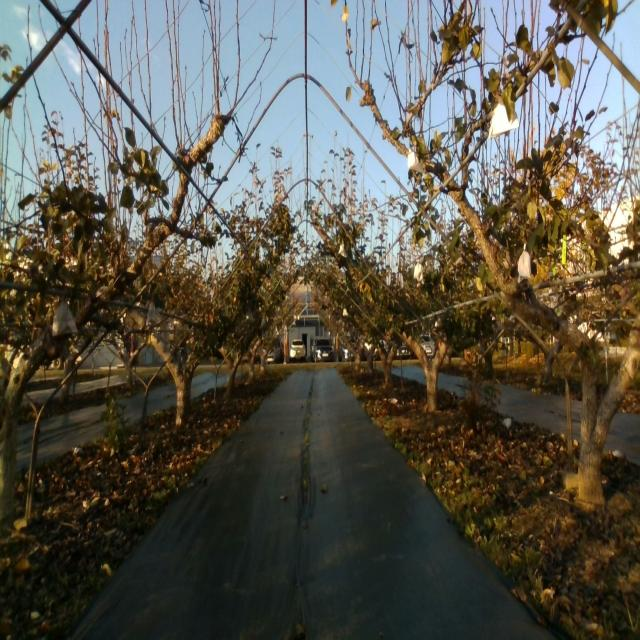pearbags: (490, 103, 520, 138), (53, 301, 77, 336), (518, 244, 532, 284), (407, 147, 424, 175), (146, 302, 160, 328), (414, 262, 424, 286)
